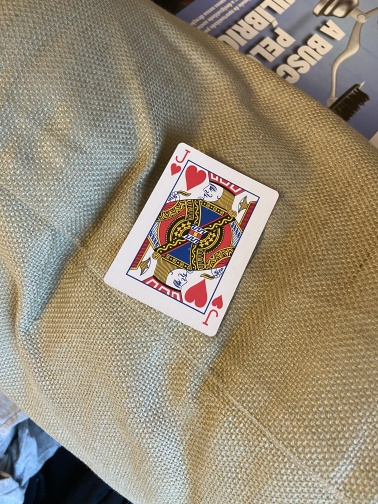jack: (102, 140, 281, 339)
